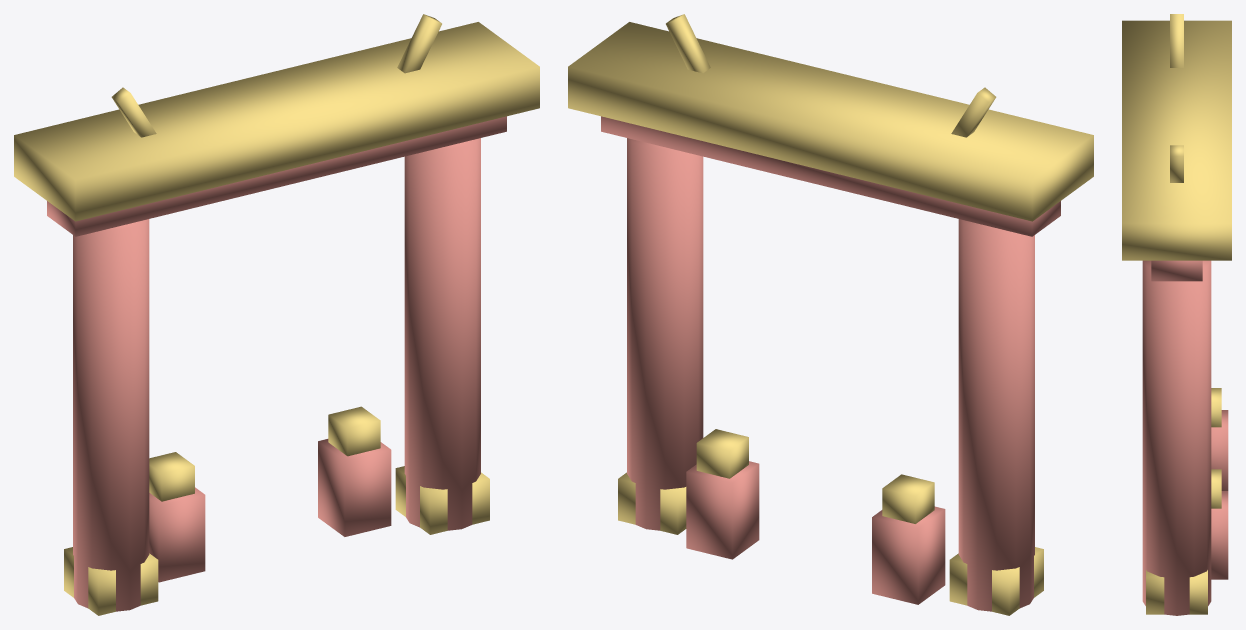
Rendered from wat_arun_lv1.glb.
3 views of the same model, side by side, from view 1: azimuth 30°, elevation 25°; view 2: azimuth 150°, elevation 25°; view 3: azimuth 270°, elevation 25° (orthographic). The views are drawn at different scales.
Visible parts, largest first — view 1: roof, col_l, col_r, crossbeam, yaksha_r, yaksha_l, col_base_r, col_base_l, yaksha_r_head, yaksha_l_head, chofah_r, chofah_l; view 2: roof, col_l, col_r, crossbeam, yaksha_l, yaksha_r, col_base_l, yaksha_l_head, yaksha_r_head, col_base_r, chofah_r, chofah_l; view 3: roof, col_r, col_base_r, yaksha_r, crossbeam, yaksha_l, chofah_l, chofah_r, yaksha_l_head, yaksha_r_head.
Part boxes in pixels (x1=…): roof: x1=14, y1=22, x2=539, y2=221; col_l: x1=73, y1=219, x2=149, y2=611; col_r: x1=404, y1=138, x2=480, y2=530; crossbeam: x1=47, y1=116, x2=506, y2=236; yaksha_r: x1=318, y1=439, x2=391, y2=536; yaksha_l: x1=149, y1=487, x2=205, y2=582; col_base_r: x1=395, y1=466, x2=489, y2=534; col_base_l: x1=64, y1=547, x2=158, y2=615; yaksha_r_head: x1=328, y1=406, x2=380, y2=456; yaksha_l_head: x1=149, y1=452, x2=194, y2=501; chofah_r: x1=397, y1=14, x2=441, y2=73; chofah_l: x1=111, y1=87, x2=156, y2=137; roof: x1=568, y1=22, x2=1093, y2=221; col_l: x1=958, y1=219, x2=1034, y2=611; col_r: x1=627, y1=138, x2=703, y2=530; crossbeam: x1=601, y1=116, x2=1060, y2=236; yaksha_l: x1=872, y1=506, x2=945, y2=604; yaksha_r: x1=686, y1=461, x2=759, y2=559; col_base_l: x1=949, y1=547, x2=1043, y2=615; yaksha_l_head: x1=882, y1=474, x2=934, y2=523; yaksha_r_head: x1=696, y1=429, x2=748, y2=478; col_base_r: x1=618, y1=472, x2=686, y2=534; chofah_r: x1=666, y1=14, x2=710, y2=73; chofah_l: x1=951, y1=87, x2=996, y2=137; roof: x1=1122, y1=20, x2=1231, y2=260; col_r: x1=1142, y1=260, x2=1211, y2=615; col_base_r: x1=1146, y1=570, x2=1207, y2=614; yaksha_r: x1=1211, y1=491, x2=1228, y2=579; crossbeam: x1=1151, y1=260, x2=1202, y2=281; yaksha_l: x1=1211, y1=410, x2=1228, y2=490; chofah_l: x1=1170, y1=14, x2=1183, y2=67; chofah_r: x1=1170, y1=145, x2=1183, y2=182; yaksha_l_head: x1=1211, y1=388, x2=1221, y2=427; yaksha_r_head: x1=1211, y1=469, x2=1221, y2=508.
Size of the model in its own units: 1.4 by 1.45 by 0.32.
